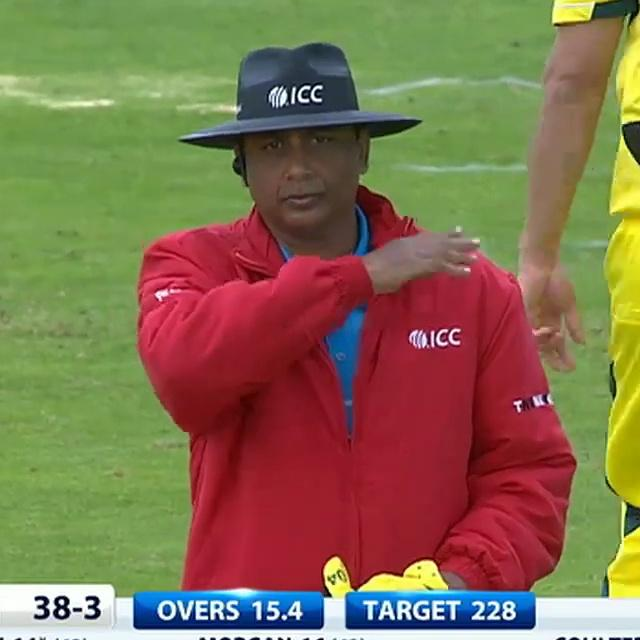umpire: (107, 7, 608, 595)
